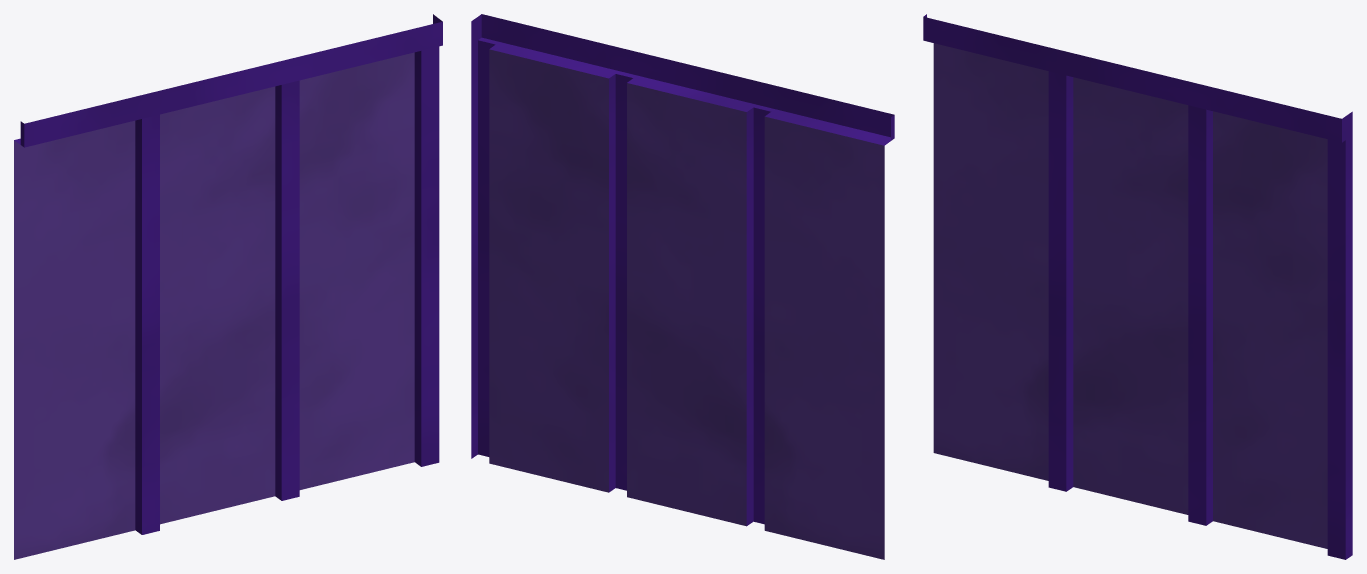
The model's file is SM_Studio-Wall.fbx.
The picture shows the model from 3 angles, left to right: view 1: azimuth 30°, elevation 25°; view 2: azimuth 150°, elevation 25°; view 3: azimuth 330°, elevation 25°; orthographic projection.
Visible parts, largest first — view 1: Studio Wall; view 2: Studio Wall; view 3: Studio Wall.
Boxes of the visible parts, x1=… form: Studio Wall: x1=14, y1=14, x2=442, y2=559; Studio Wall: x1=471, y1=14, x2=894, y2=559; Studio Wall: x1=923, y1=14, x2=1352, y2=559.
Bounding box in the file's own units: 9.32 × 9.43 × 0.3971.
